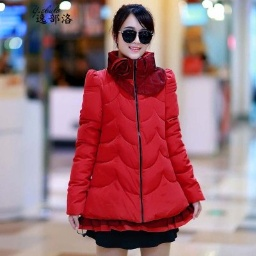face: (112, 3, 156, 60)
